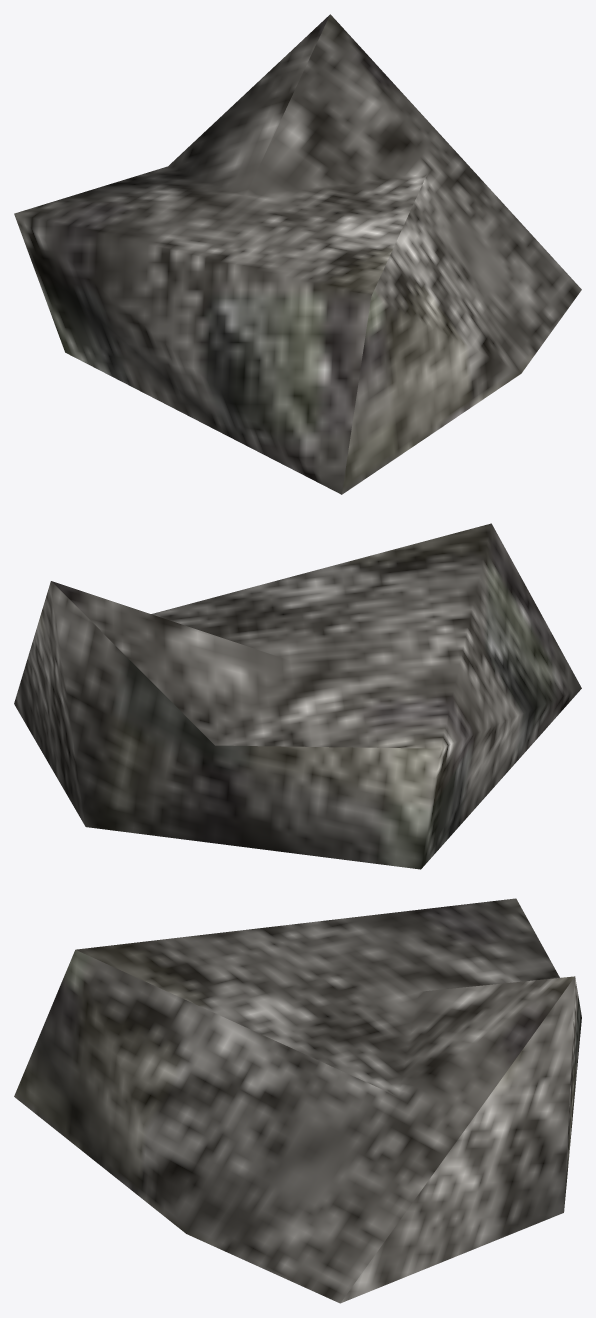
The model's file is rock_shoreline_sm_b.glb.
3 views of the same model, one above another, from view 1: azimuth 30°, elevation 25°; view 2: azimuth 150°, elevation 25°; view 3: azimuth 270°, elevation 25° (orthographic). The views are drawn at different scales.
Visible parts, largest first — view 1: rock_shoreline_sm_b; view 2: rock_shoreline_sm_b; view 3: rock_shoreline_sm_b.
Part boxes in pixels (x1,y1,x2,y2): rock_shoreline_sm_b: (14, 14, 581, 494); rock_shoreline_sm_b: (14, 523, 581, 869); rock_shoreline_sm_b: (14, 898, 581, 1303).
Bounding box in the file's own units: 2.27 × 1.03 × 2.11.
1 material, 1 textured.
